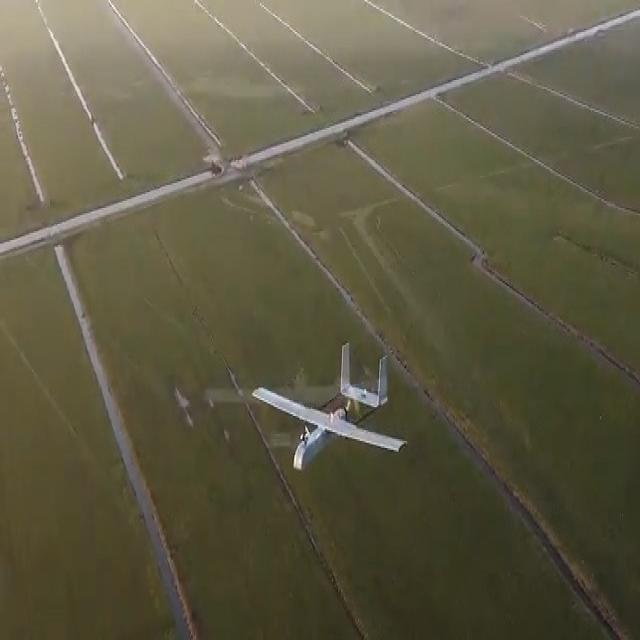iha: (245, 334, 402, 492)
